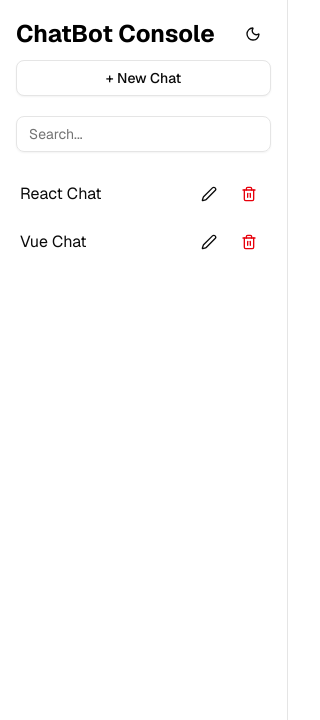
Scenario: Sidebar › поиск диалога
Type "react" into the field with placeholder "Search..." at (144, 134), box x1=16 y1=116 x2=271 y2=152
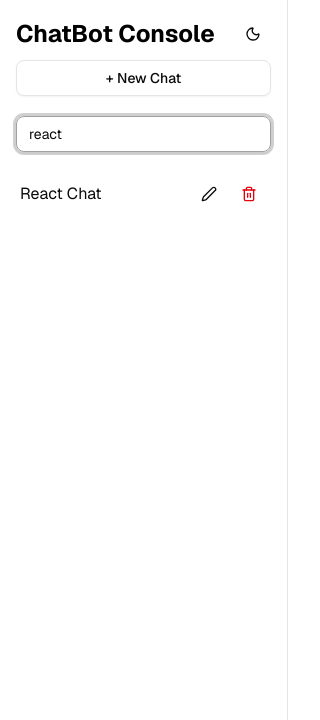
Expected: the button "React Chat" is shown, x1=20 y1=182 x2=187 y2=206
Result: the button "Vue Chat" is gone
